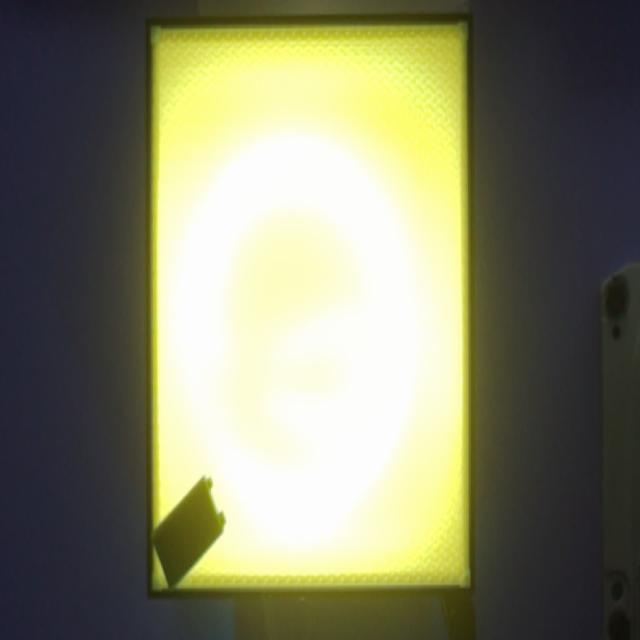bateria: (151, 476, 226, 592)
mesa: (146, 13, 474, 600)
